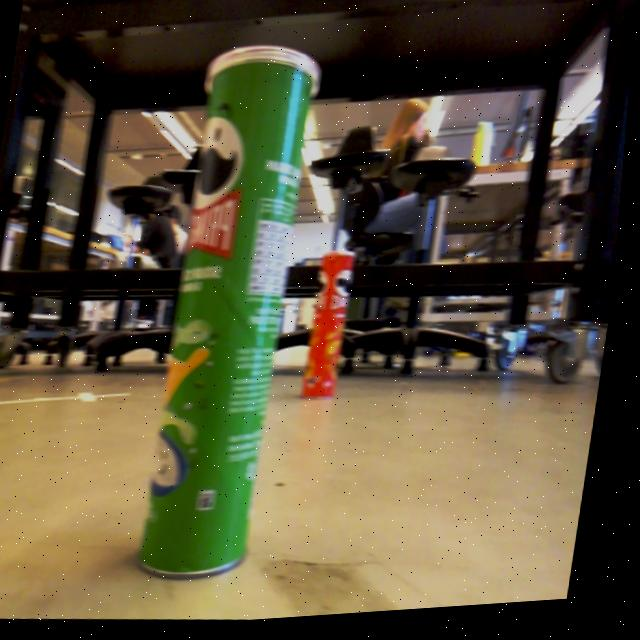greenpringles: (110, 30, 333, 600)
redpringles: (301, 242, 363, 412)
